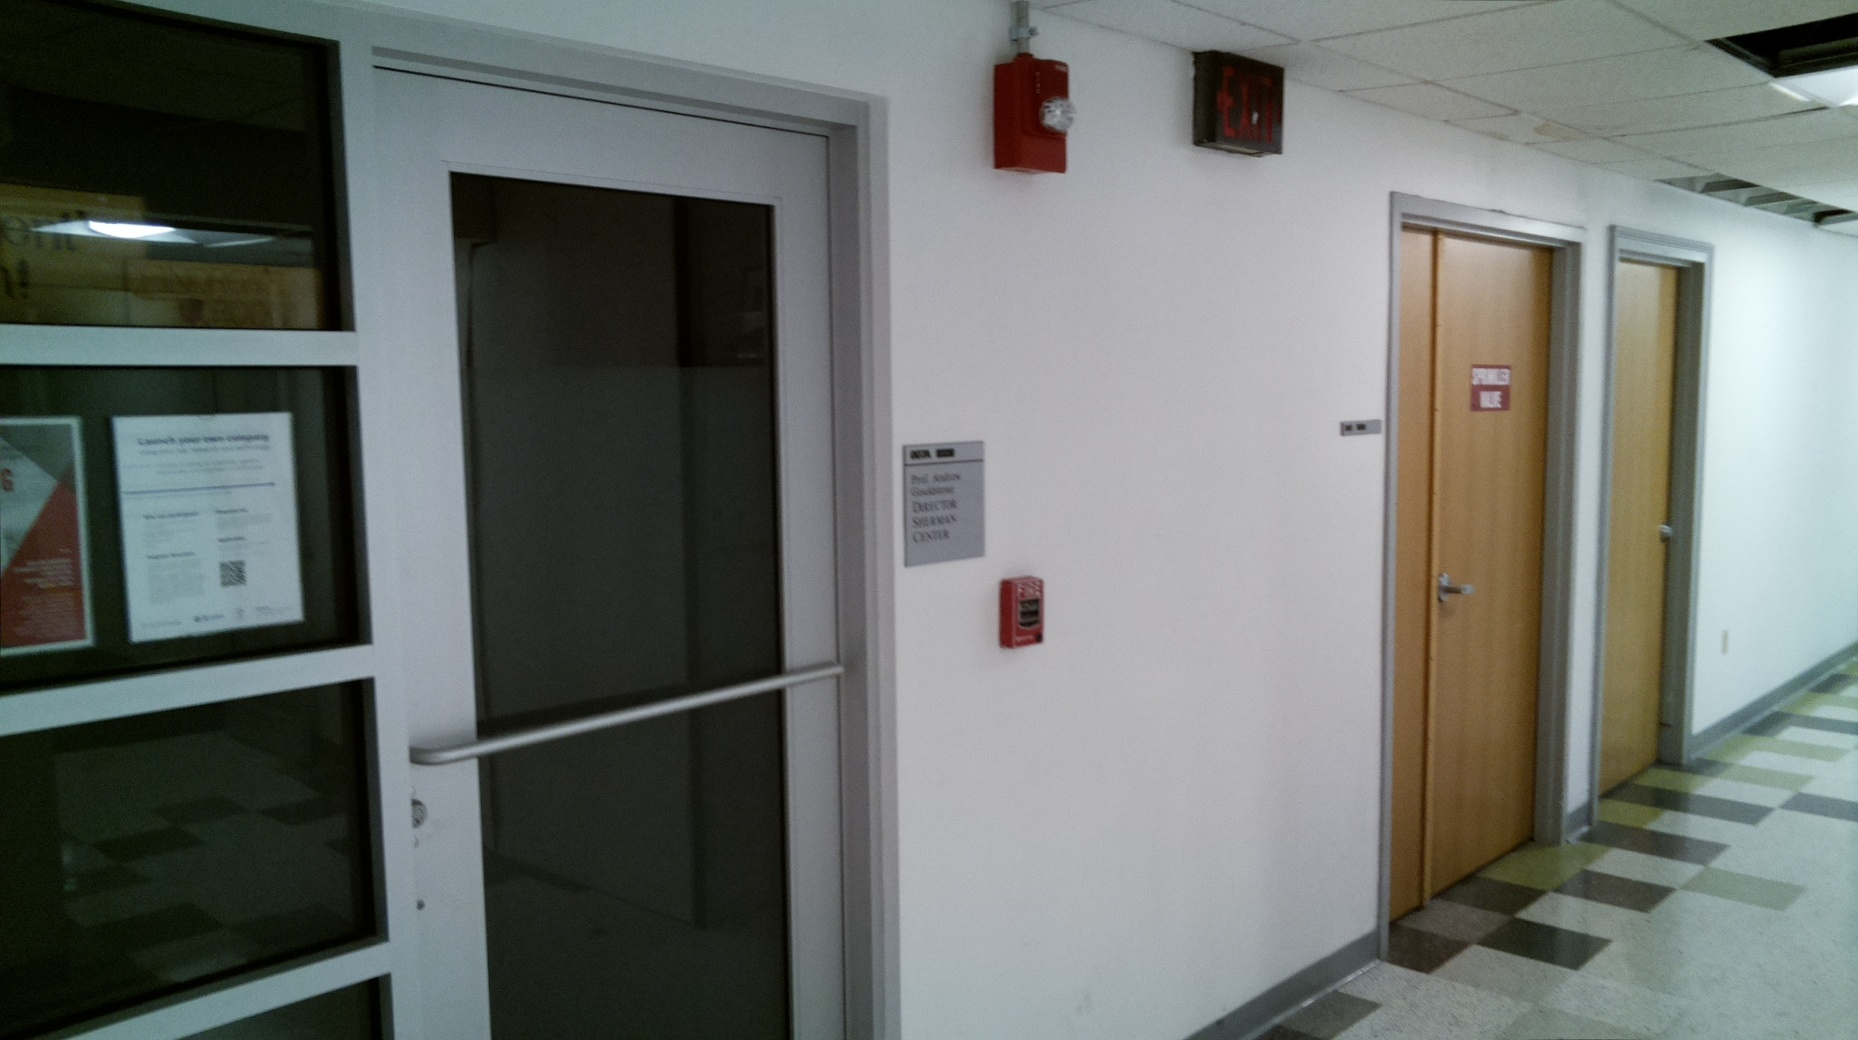exit sign: (1189, 47, 1288, 161)
